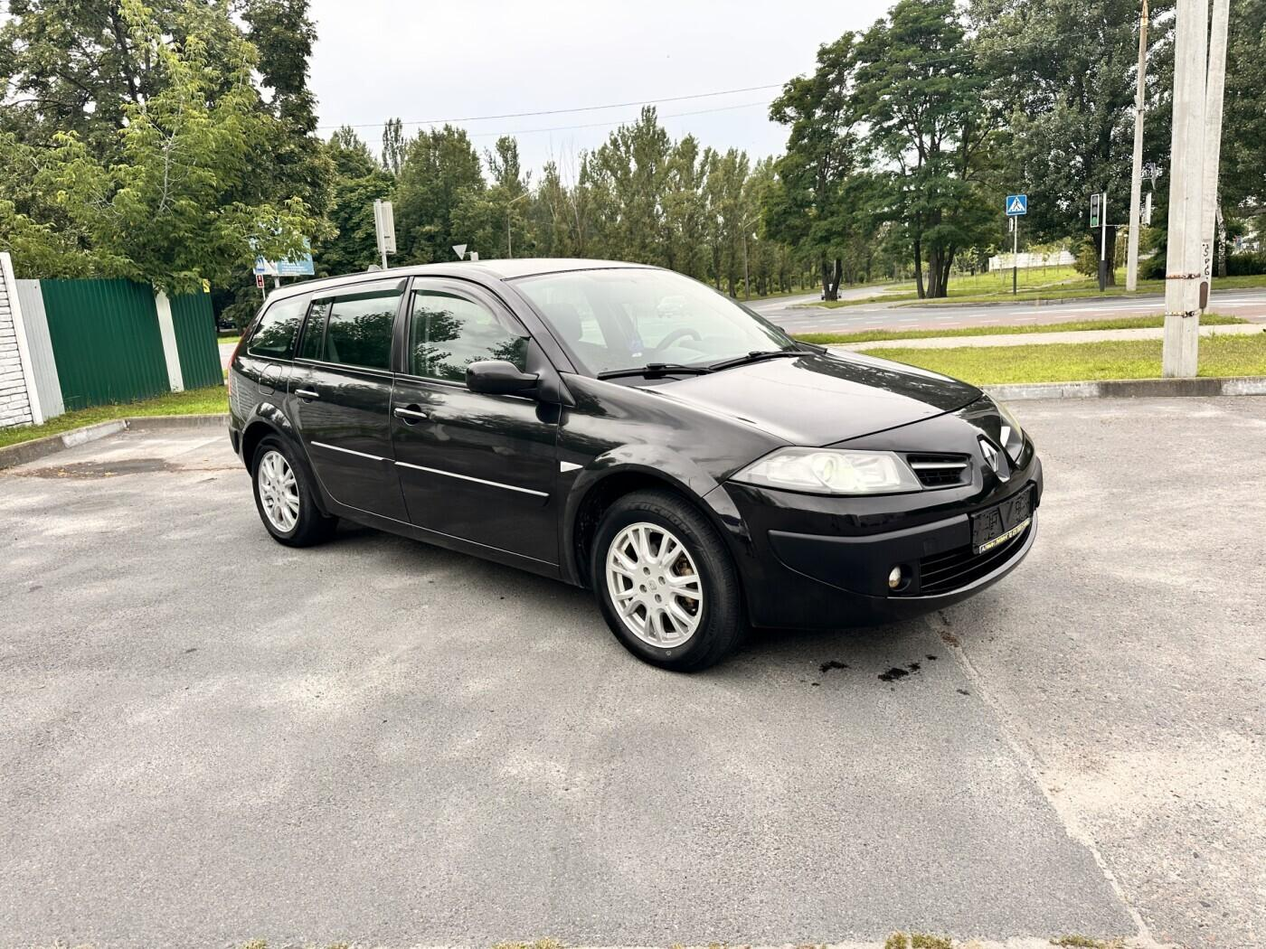Megane_2005-2009: (217, 253, 1052, 669)
